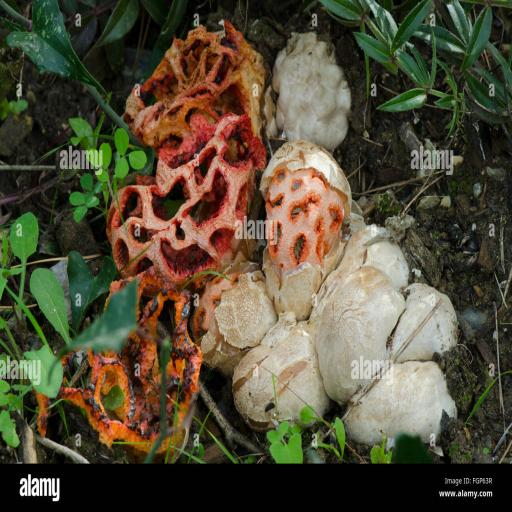Red Cage Fungus: (104, 26, 271, 286), (45, 271, 207, 458), (266, 169, 350, 264)
